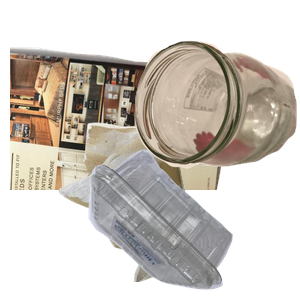glass: (132, 38, 300, 199)
paper: (10, 44, 232, 224)
plastic: (86, 147, 300, 300)
trash: (56, 120, 247, 300)
